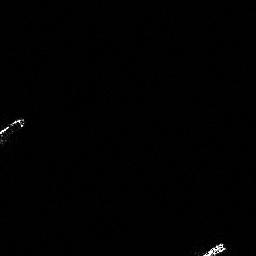ship: (1, 117, 27, 147), (193, 239, 228, 256)
